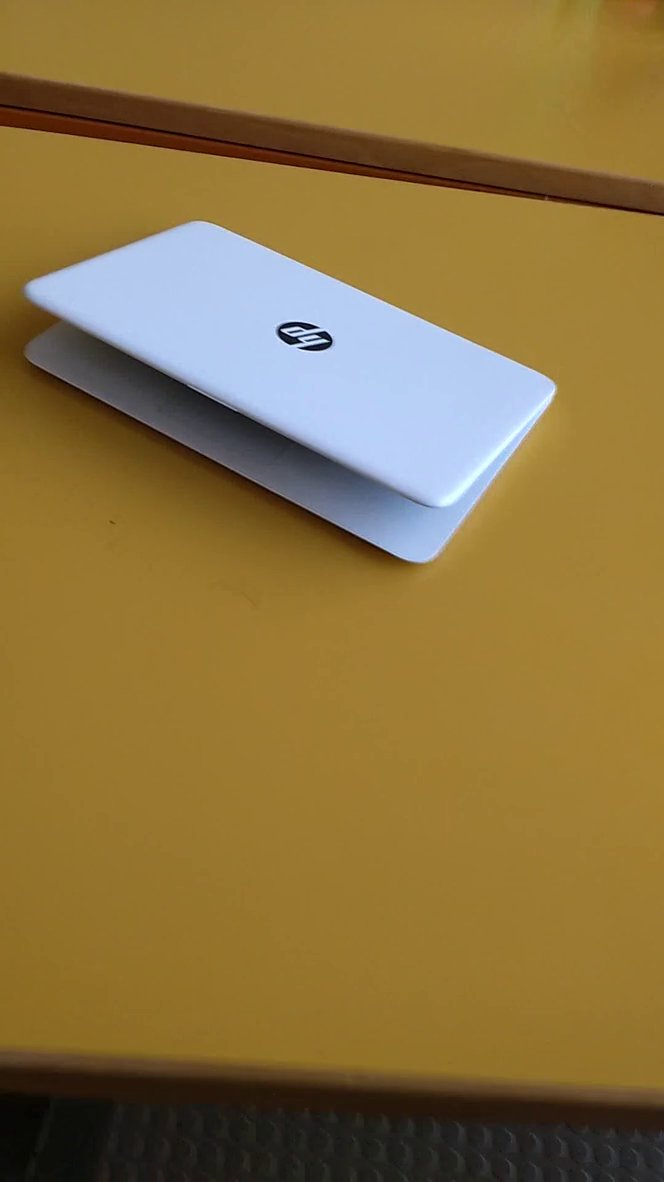laptop: (12, 195, 593, 603)
